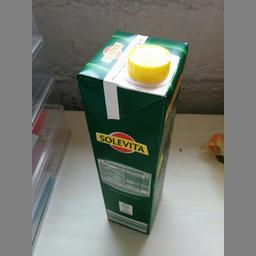juice: (74, 28, 190, 236)
